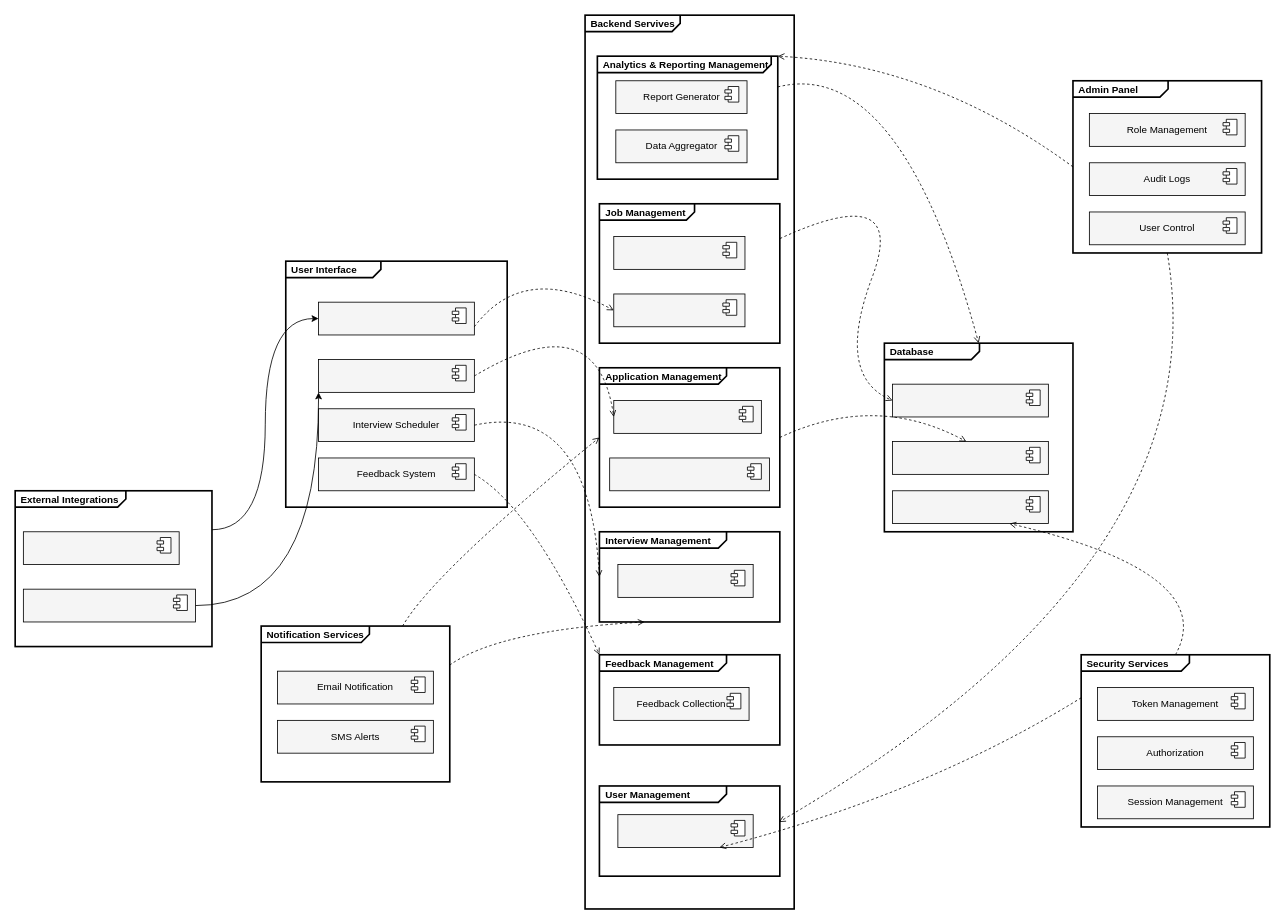
Some shapes in this 1284 by 923 pixel diagram are drawn without their labels. Here are the shapes that lost their labels. From the top down, the centre of each, then its label:
(679,252): Job Posting
(396,318): Job Listings Display
(679,310): Job Retrieval
(396,375): Application Submission
(687,416): Application Processing
(970,400): Job Data
(689,474): Application Status Tracker
(970,457): Application Data
(970,507): User Data
(101,548): Job Boards Integration
(685,580): Interview Scheduling
(109,605): Background Check Services
(685,830): User Authentication
